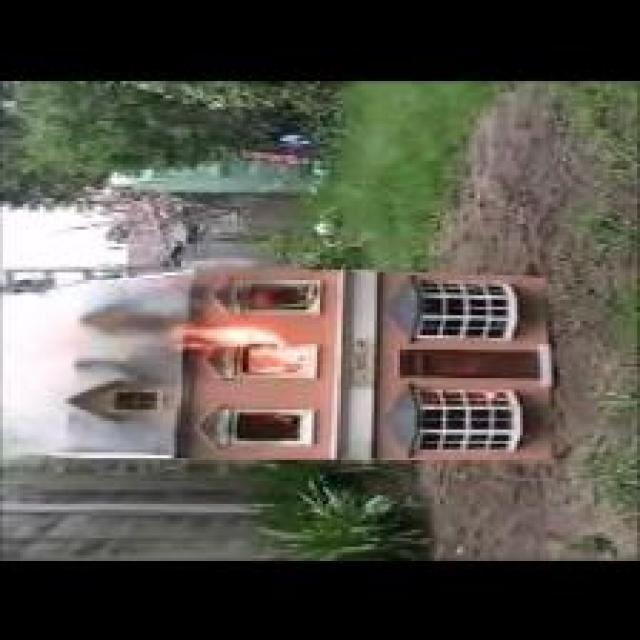Fire: (176, 327, 302, 370)
